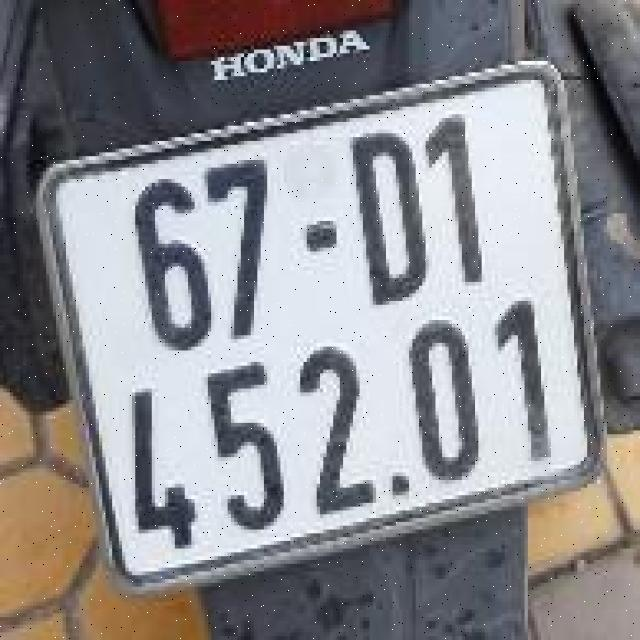0: (401, 312, 490, 488)
1: (426, 109, 504, 284), (495, 280, 564, 470)
2: (299, 341, 381, 520), (205, 152, 277, 343)
4: (118, 385, 204, 545)
5: (208, 346, 294, 530)
6: (130, 166, 216, 364)
D: (332, 125, 437, 308)
